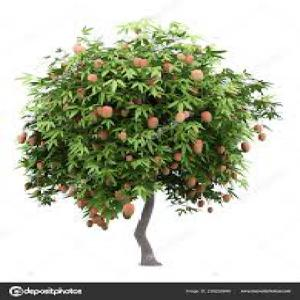Tree: (12, 14, 283, 267)
